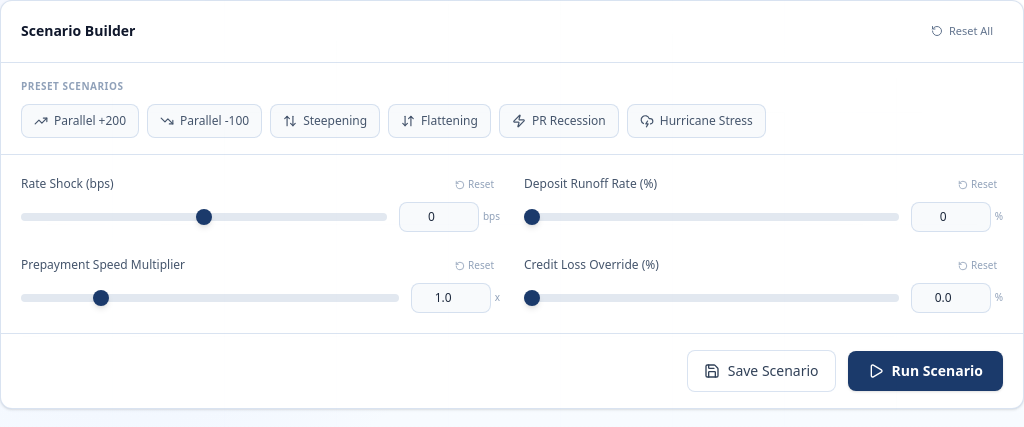
Test: ScenarioInput › preset buttons set correct values › clicking "PR Recession" sets multiple parameters
The image size is (1024, 427).
Click the button with test id "preset-pr_recession". click: [559, 120]
box: 499,104 -> 619,138
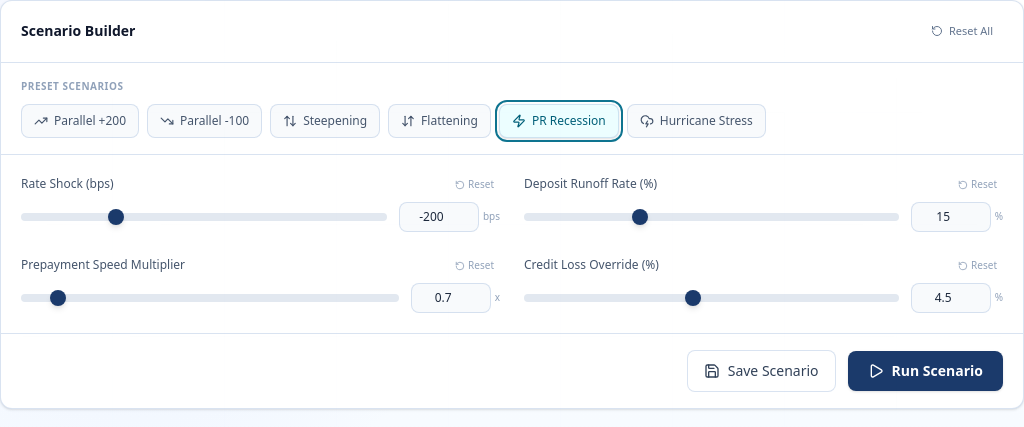
Expected: the slider named "rate shock" holds "-200", 21,212 -> 387,220
Expected: the slider named "deposit runoff" holds "15", 524,212 -> 899,220
